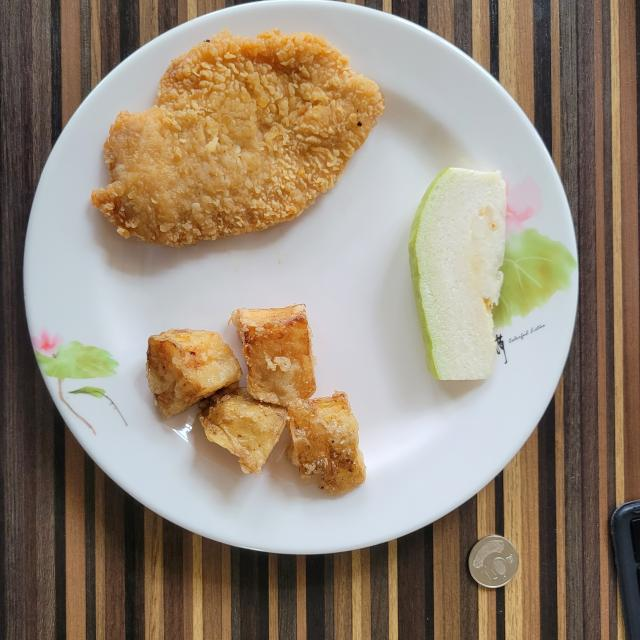coin: (469, 535, 519, 588)
fried chicken cutlet: (91, 30, 384, 246)
fried potato: (146, 305, 365, 495)
guava -sliced-: (409, 168, 506, 380)
